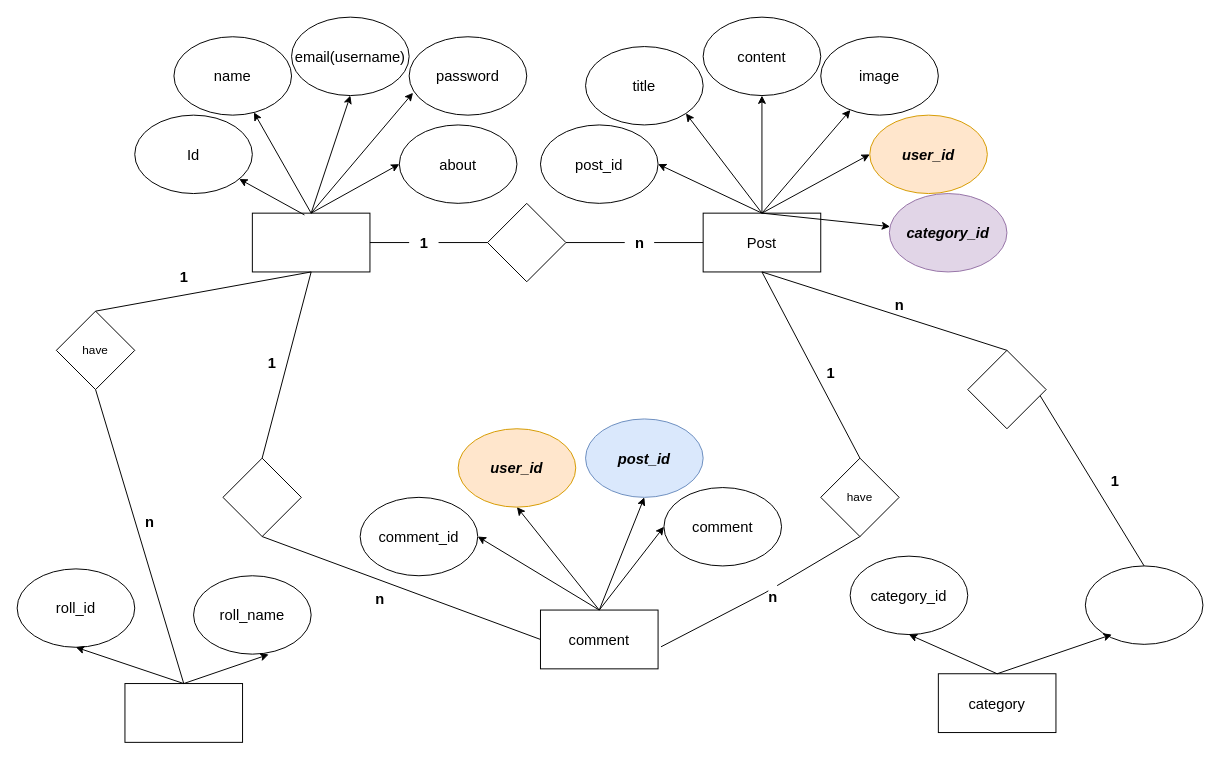
This 1220x760 diagram has some shape labels left out. The box of each missing label's shape, as (x1, y1, x2, y2) in pixels:
can create: (487, 202, 566, 282)
category_title: (1084, 565, 1203, 644)
contain: (967, 349, 1046, 429)
do: (222, 457, 301, 537)
roll: (124, 683, 243, 742)
User: (251, 212, 370, 272)
